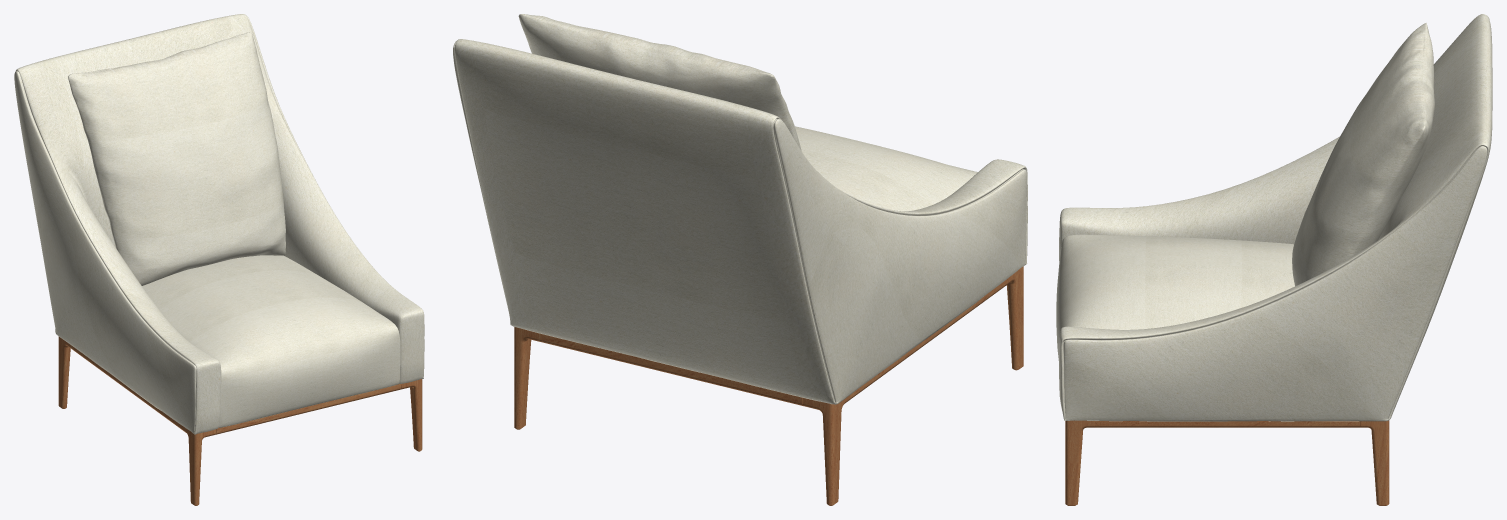
Rendered from Sofa01.glb.
The picture shows the model from 3 angles, left to right: view 1: azimuth 30°, elevation 25°; view 2: azimuth 150°, elevation 25°; view 3: azimuth 270°, elevation 25°; orthographic projection. The views are drawn at different scales.
Parts seen in each view (by area): view 1: sides, pillow, seat, legs; view 2: sides, pillow, seat, legs; view 3: sides, seat, pillow, legs.
Boxes of the visible parts, bbox=[...] form: sides: bbox=[14, 14, 424, 434]; pillow: bbox=[68, 32, 285, 285]; seat: bbox=[142, 255, 400, 427]; legs: bbox=[58, 336, 422, 505]; sides: bbox=[453, 39, 1027, 404]; pillow: bbox=[518, 14, 801, 150]; seat: bbox=[795, 126, 977, 211]; legs: bbox=[514, 266, 1023, 505]; sides: bbox=[1059, 14, 1492, 421]; seat: bbox=[1056, 234, 1294, 360]; pillow: bbox=[1292, 23, 1434, 286]; legs: bbox=[1065, 420, 1389, 505].
Bounding box in the file's own units: 0.4888 × 0.5952 × 0.6377.
2 materials, 2 textured.
